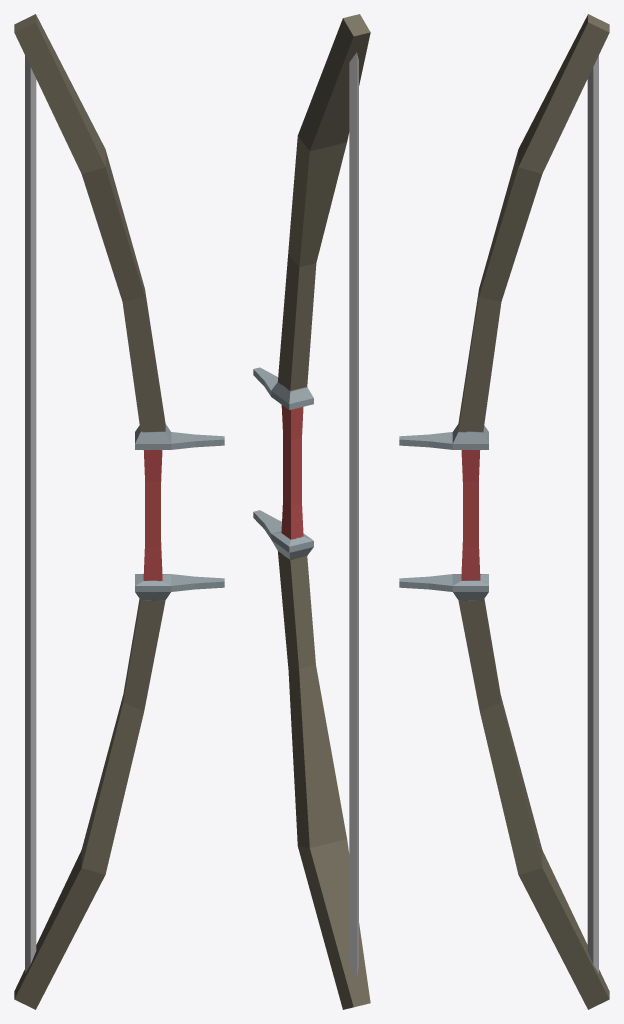
File: bow.fbx
3 renders of one model, left to right at view 1: azimuth 90°, elevation 25°; view 2: azimuth 210°, elevation 25°; view 3: azimuth 270°, elevation 25°, orthographic.
Visible parts, largest first — view 1: Bow; view 2: Bow; view 3: Bow.
Part boxes in pixels (box(x1,y1,x2,y2)): Bow: box(14, 14, 224, 1009); Bow: box(253, 14, 370, 1009); Bow: box(399, 14, 609, 1009).
Size of the model in its own units: 5.39 by 137 by 26.41.
